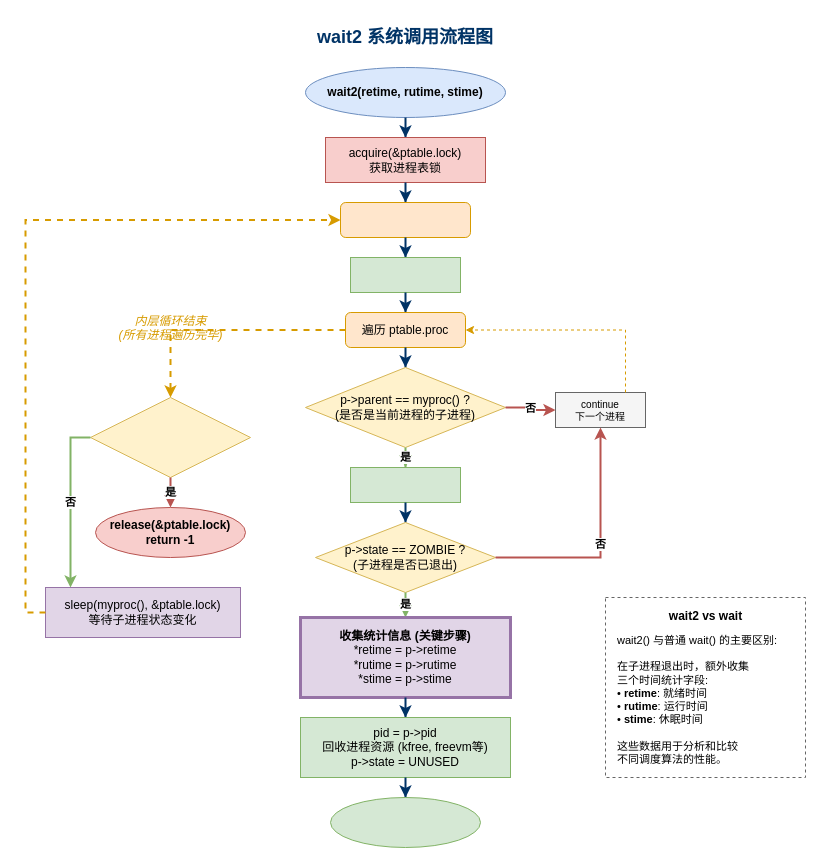
Image size: 823x865. Some labels were removed from this diagram. The shapes that lost their labels are listed below. From the top down, each one's centre as x and y in pixels, then its label:
At point (405, 220): "无限循环开始".
At point (405, 274): "havekids = 0".
At point (170, 437): "!havekids || myproc()->killed ?".
At point (405, 484): "havekids = 1".
At point (405, 822): "release(&ptable.lock) return pid".
